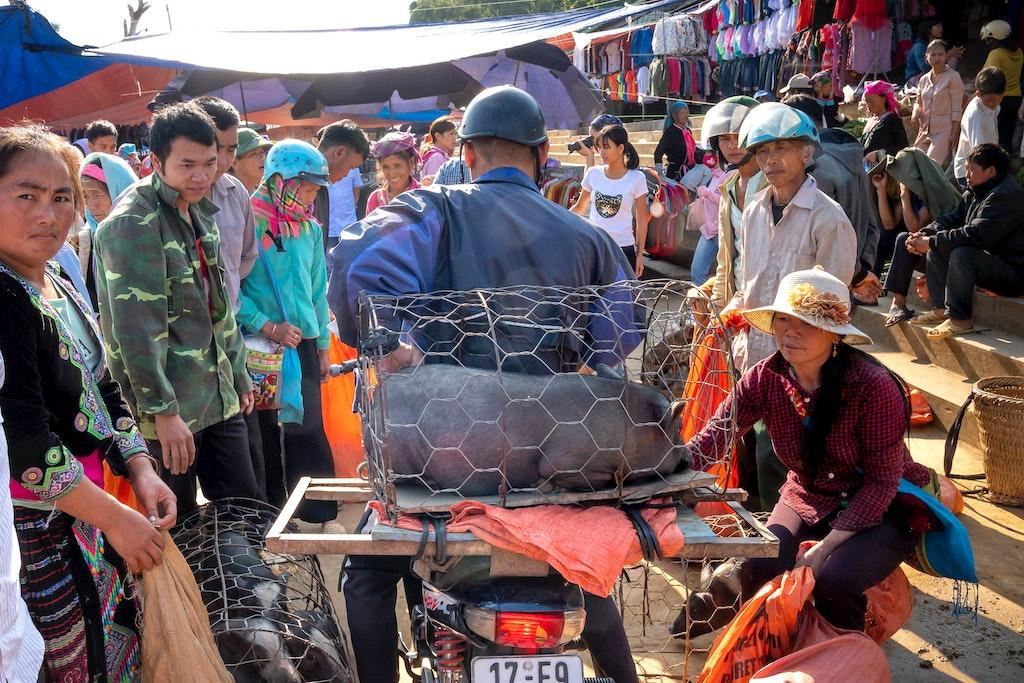helmet: (457, 83, 550, 195), (737, 101, 825, 198), (701, 95, 768, 178), (979, 18, 1014, 50)
nohelmet: (0, 123, 76, 270), (148, 102, 219, 206), (76, 150, 139, 234), (317, 119, 370, 185), (373, 130, 416, 191), (964, 142, 1012, 193), (595, 123, 640, 171), (975, 66, 1007, 111), (863, 79, 897, 115), (429, 117, 458, 155), (925, 38, 949, 71), (917, 14, 944, 40), (669, 100, 690, 127)
